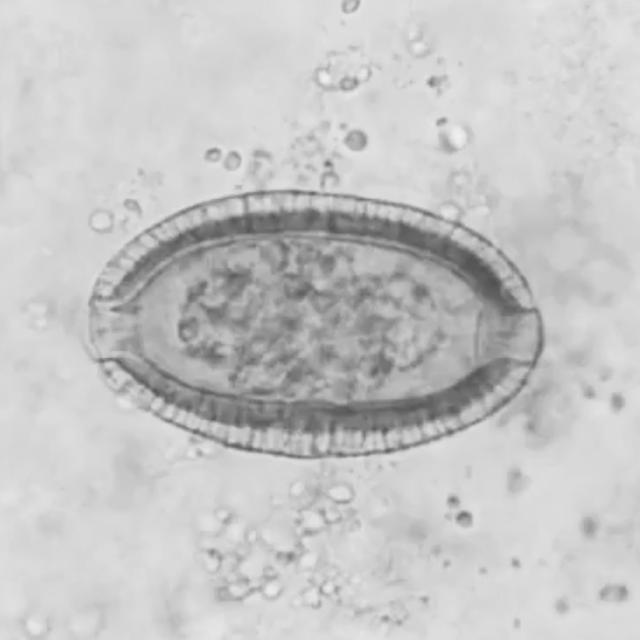Trichuris Trichiura: (71, 180, 545, 466)
